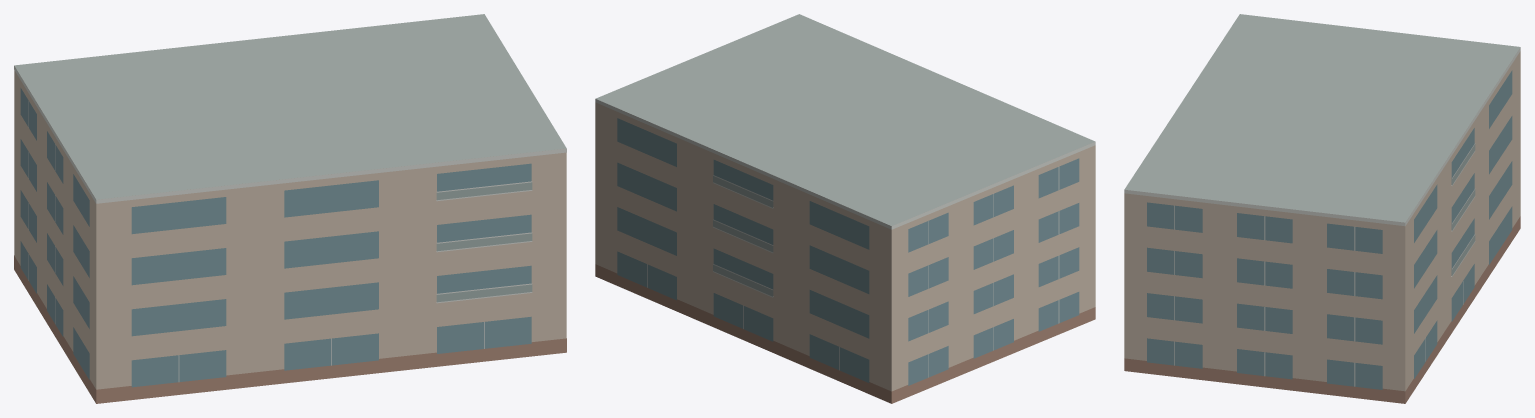
File: residential-4dd245b1-31bf-432e-aaf7-5988b61e5417.glb
3 renders of one model, left to right at view 1: azimuth 30°, elevation 25°; view 2: azimuth 150°, elevation 25°; view 3: azimuth 270°, elevation 25°, orthographic. The views are drawn at different scales.
Parts seen in each view (by area): view 1: residential-4dd245b1-31bf-432e-aaf7-5988b61e5417.tmp; view 2: residential-4dd245b1-31bf-432e-aaf7-5988b61e5417.tmp; view 3: residential-4dd245b1-31bf-432e-aaf7-5988b61e5417.tmp.
Part boxes in pixels (x1=…): residential-4dd245b1-31bf-432e-aaf7-5988b61e5417.tmp: x1=14, y1=14, x2=566, y2=403; residential-4dd245b1-31bf-432e-aaf7-5988b61e5417.tmp: x1=595, y1=14, x2=1095, y2=403; residential-4dd245b1-31bf-432e-aaf7-5988b61e5417.tmp: x1=1124, y1=14, x2=1520, y2=403.
Bounding box in the file's own units: 30.12 × 12.2 × 24.19.
